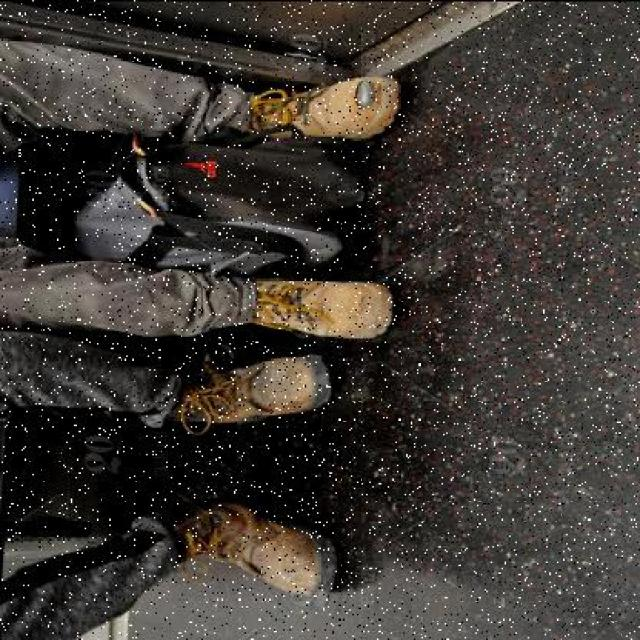shoes: (162, 492, 338, 586), (159, 348, 336, 432), (260, 71, 391, 140), (252, 278, 397, 332)
